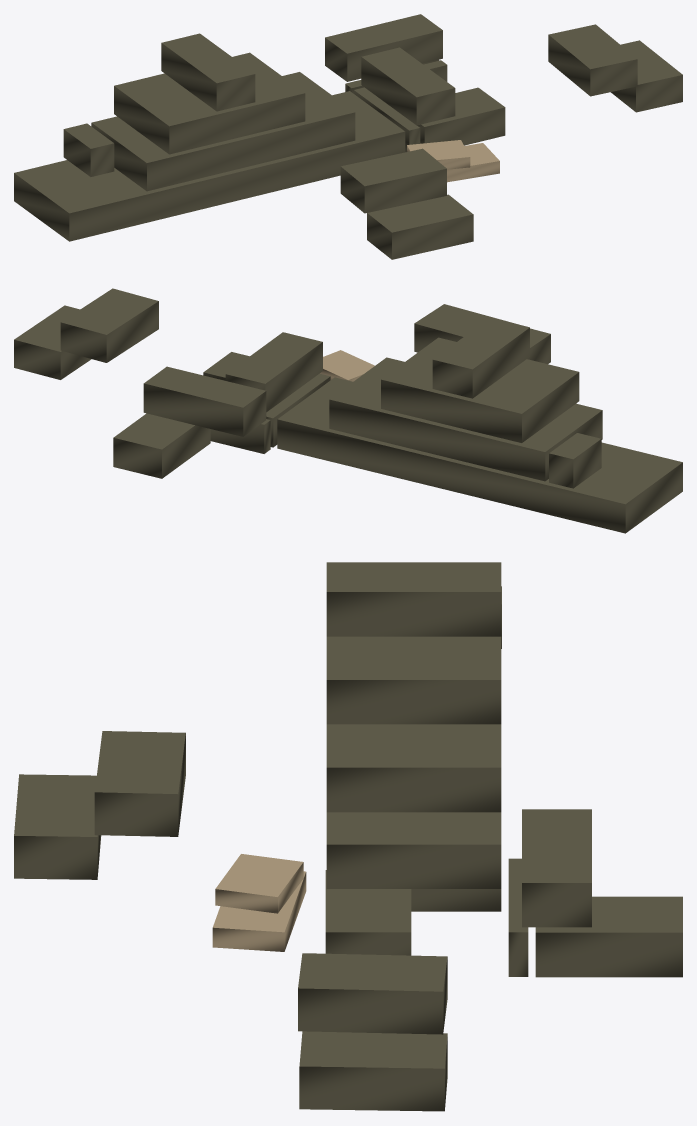
Rendered from SM_SacosRemateEspejo_v1_Talud_e1_Danado_LOD1.fbx.
3 views of the same model, one above another, from view 1: azimuth 30°, elevation 25°; view 2: azimuth 150°, elevation 25°; view 3: azimuth 270°, elevation 25° (orthographic). The views are drawn at different scales.
Visible parts, largest first — view 1: SM_sacos_piezas_v25_LOD1; view 2: SM_sacos_piezas_v25_LOD1; view 3: SM_sacos_piezas_v25_LOD1.
Part boxes in pixels (x1,y1,x2,y2): SM_sacos_piezas_v25_LOD1: [14, 14, 682, 259]; SM_sacos_piezas_v25_LOD1: [14, 288, 682, 533]; SM_sacos_piezas_v25_LOD1: [14, 562, 682, 1111].
Bounding box in the file's own units: 6.08 × 1.18 × 3.68.
